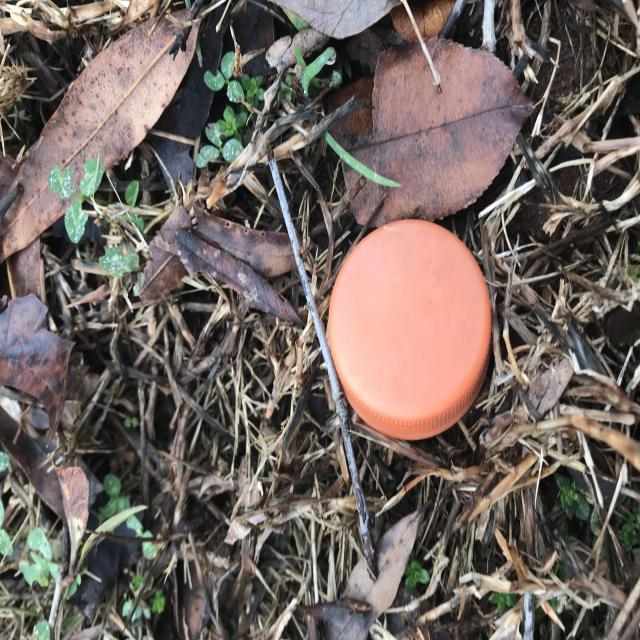litter: (331, 219, 491, 424)
